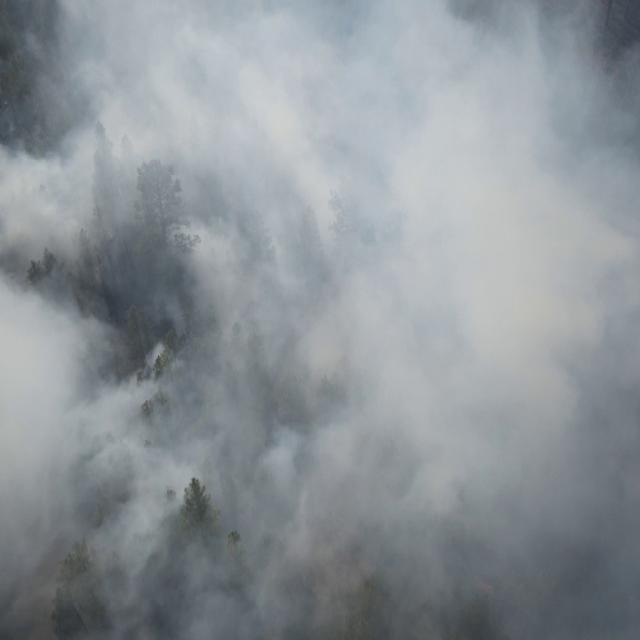fire: (476, 578, 498, 598)
smoke: (0, 0, 640, 640)
